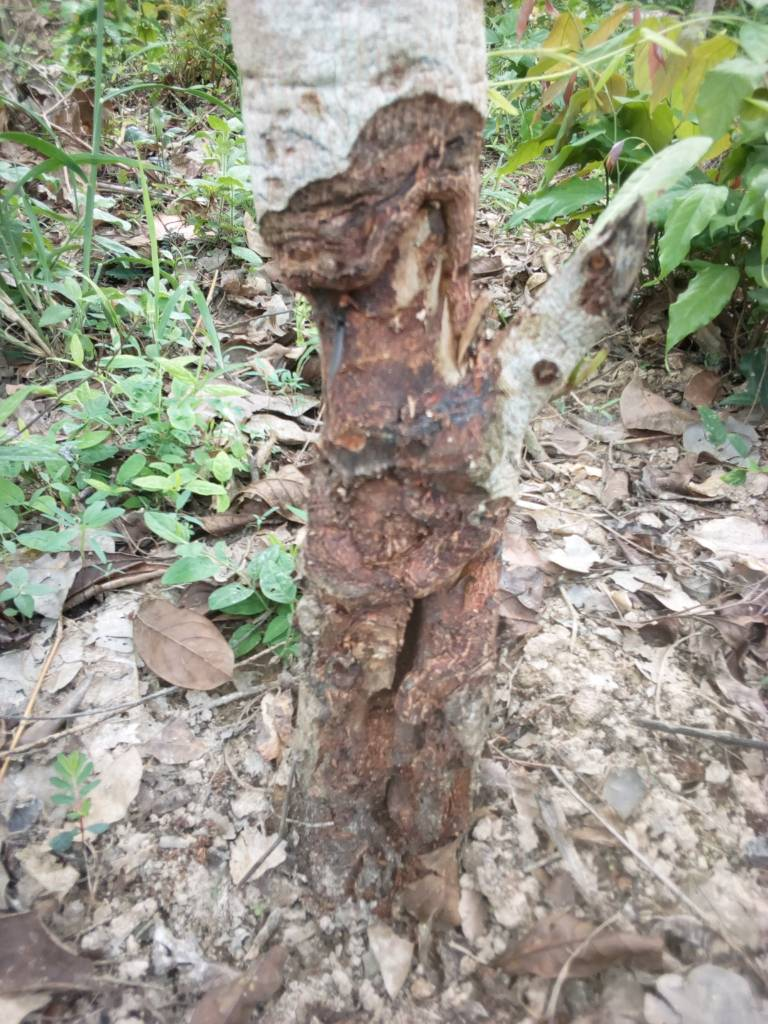ploceadorus ferrugineus: (274, 567, 544, 958), (296, 111, 549, 527)
